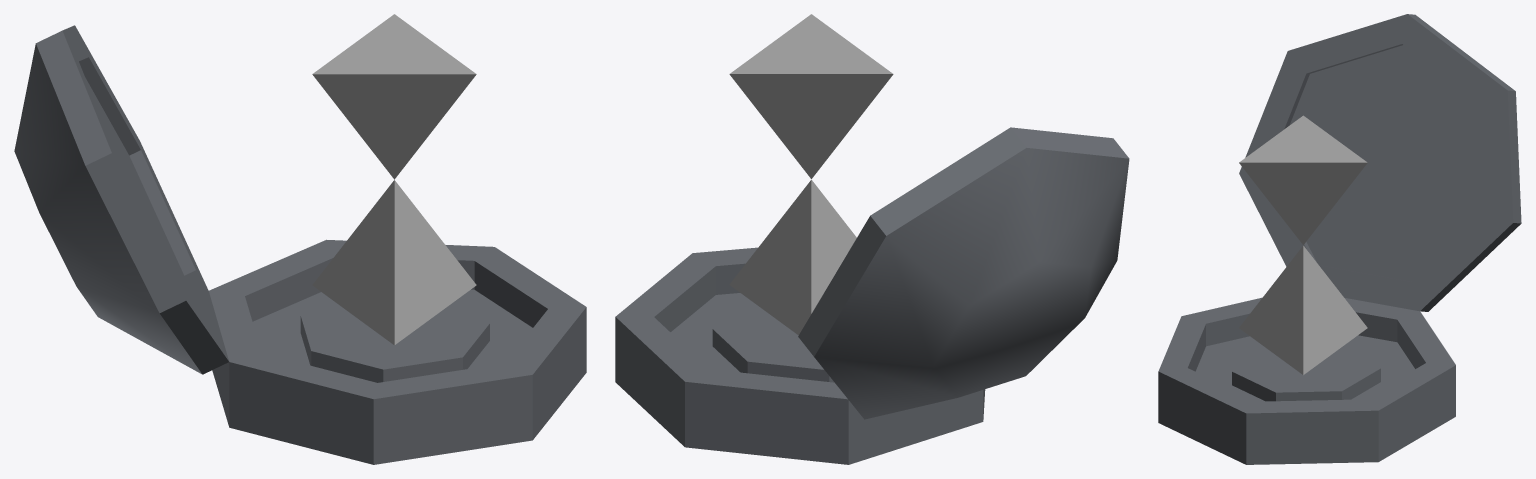
Rendered from SM_HolographicToy (3).fbx.
The picture shows the model from 3 angles, left to right: view 1: azimuth 30°, elevation 25°; view 2: azimuth 150°, elevation 25°; view 3: azimuth 270°, elevation 25°; orthographic projection. The views are drawn at different scales.
Visible parts, largest first — view 1: SM_HolographicMachine_01a, pSphere2, pSphere1; view 2: SM_HolographicMachine_01a, pSphere2, pSphere1; view 3: SM_HolographicMachine_01a, pSphere1, pSphere2.
Boxes of the visible parts, x1=… form: SM_HolographicMachine_01a: x1=14, y1=25, x2=586, y2=464; pSphere2: x1=312, y1=14, x2=476, y2=179; pSphere1: x1=312, y1=180, x2=476, y2=345; SM_HolographicMachine_01a: x1=615, y1=127, x2=1129, y2=464; pSphere2: x1=729, y1=14, x2=893, y2=178; pSphere1: x1=729, y1=179, x2=856, y2=335; SM_HolographicMachine_01a: x1=1158, y1=14, x2=1521, y2=464; pSphere1: x1=1239, y1=245, x2=1367, y2=374; pSphere2: x1=1239, y1=115, x2=1367, y2=244.
Bounding box in the file's own units: 6.63 × 4.95 × 5.62.
Materials: 2 (1 with a texture image).
